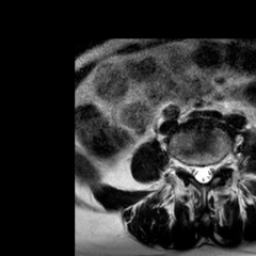CCS_normal: (199, 156, 207, 191)
LFS_normal: (215, 151, 224, 176)
LLS_normal: (207, 156, 215, 187)
RFS_normal: (184, 155, 192, 179)
RLS_normal: (192, 157, 199, 187)
